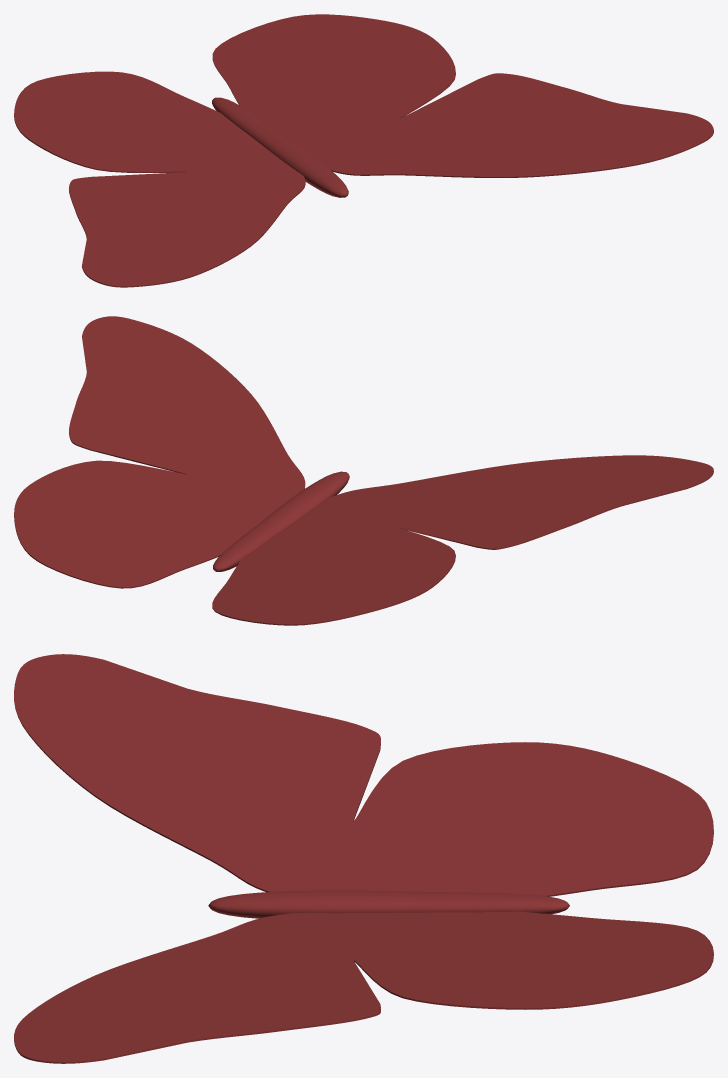
Rendered from but.obj.
The picture shows the model from 3 angles, top to bottom: view 1: azimuth 30°, elevation 25°; view 2: azimuth 150°, elevation 25°; view 3: azimuth 270°, elevation 25°; orthographic projection. The views are drawn at different scales.
Parts seen in each view (by area): view 1: Line06, Line05, Box04; view 2: Line06, Line05, Box04; view 3: Line05, Line06, Box04.
Part boxes in pixels (bbox=[...]): Line06: bbox=[212, 14, 713, 177]; Line05: bbox=[14, 71, 305, 287]; Box04: bbox=[212, 97, 348, 197]; Line06: bbox=[14, 316, 305, 588]; Line05: bbox=[212, 455, 713, 625]; Box04: bbox=[213, 471, 349, 571]; Line05: bbox=[14, 654, 713, 896]; Line06: bbox=[14, 911, 713, 1063]; Box04: bbox=[208, 890, 569, 918].
Bounding box in the file's own units: 7218 × 518 × 5150.
